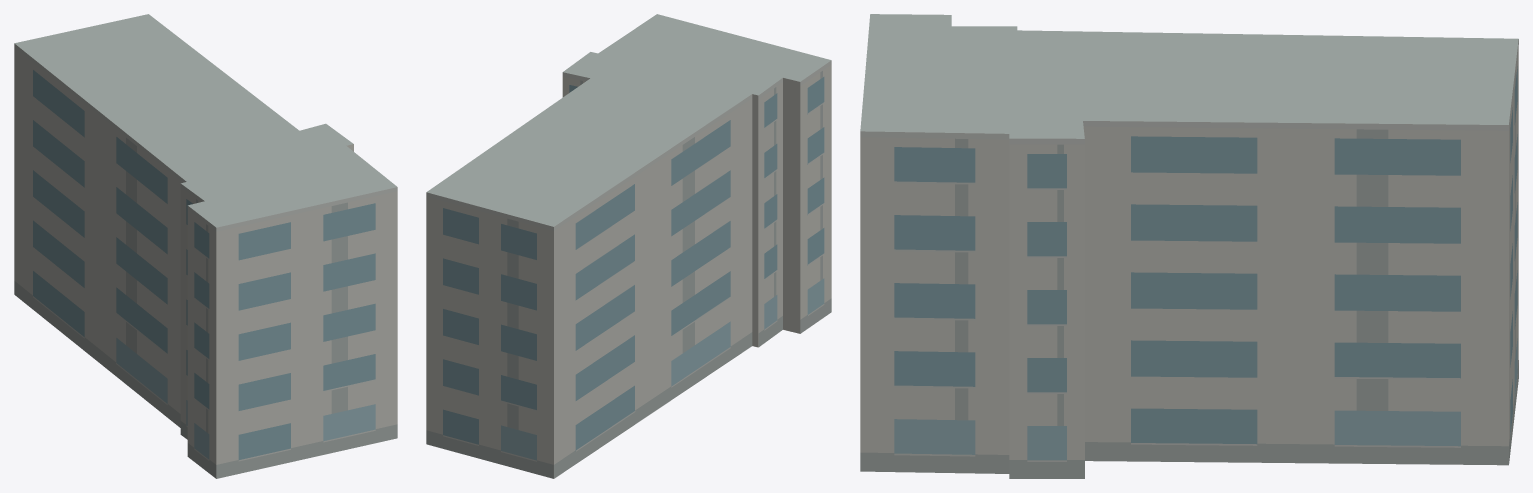
Rendered from survey-upis-32567853.glb.
The picture shows the model from 3 angles, left to right: view 1: azimuth 30°, elevation 25°; view 2: azimuth 150°, elevation 25°; view 3: azimuth 270°, elevation 25°; orthographic projection. The views are drawn at different scales.
Visible parts, largest first — view 1: survey-upis-32567853.tmp; view 2: survey-upis-32567853.tmp; view 3: survey-upis-32567853.tmp.
Boxes of the visible parts, x1,y1,x2,y2 form: survey-upis-32567853.tmp: (14,14,397,478); survey-upis-32567853.tmp: (426,14,831,478); survey-upis-32567853.tmp: (860,14,1518,478).
Bounding box in the file's own units: 11.19 × 14.2 × 24.93.
